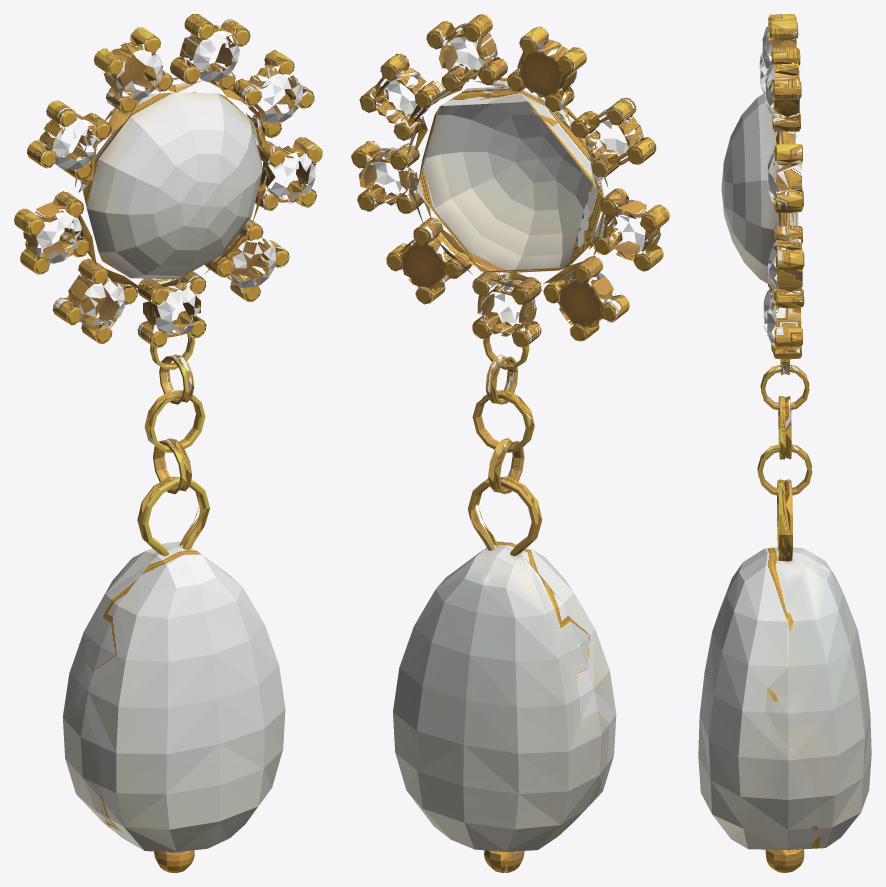
Rendered from EarringPearlDrop.obj.
3 views of the same model, side by side, from view 1: azimuth 30°, elevation 25°; view 2: azimuth 150°, elevation 25°; view 3: azimuth 270°, elevation 25° (orthographic).
Parts seen in each view (by area): view 1: part0; view 2: part0; view 3: part0.
Part boxes in pixels (left/top/right/bottom): part0: left=14, top=14, right=322, bottom=872; part0: left=351, top=14, right=669, bottom=872; part0: left=698, top=14, right=871, bottom=872.
Size of the model in its own units: 0.0149 by 0.04 by 0.00752.
Materials: 1 (1 with a texture image).
